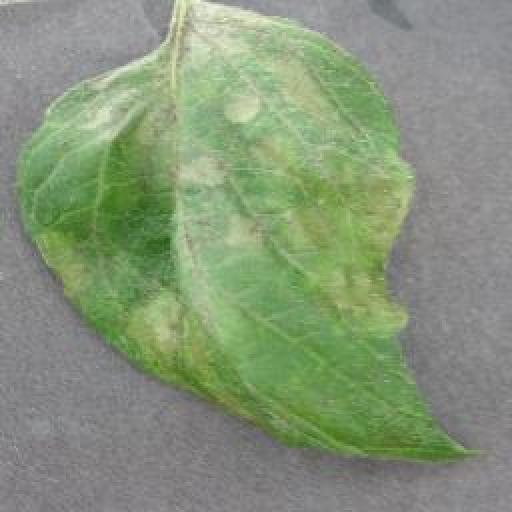disease_tomato: (10, 0, 482, 479)
